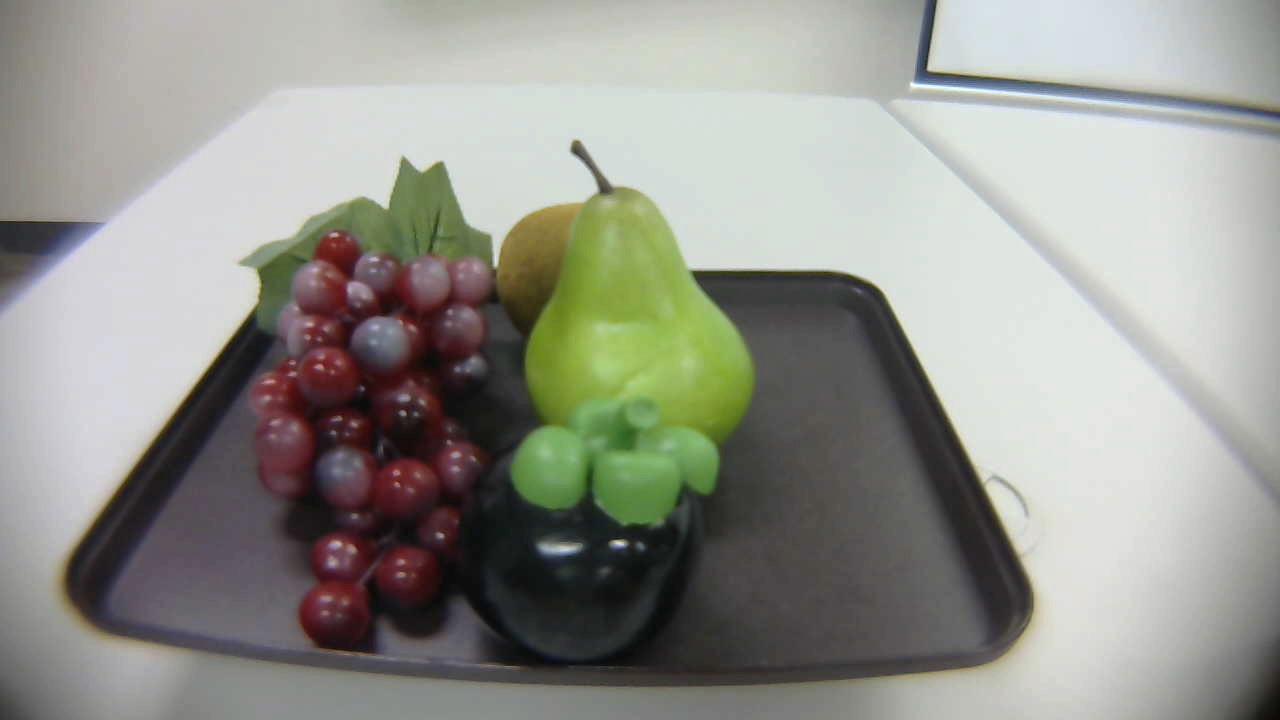grape: (232, 158, 495, 671)
green pear: (518, 139, 763, 466)
kiwi fruit: (483, 188, 600, 351)
mangosteen: (450, 402, 720, 666)
